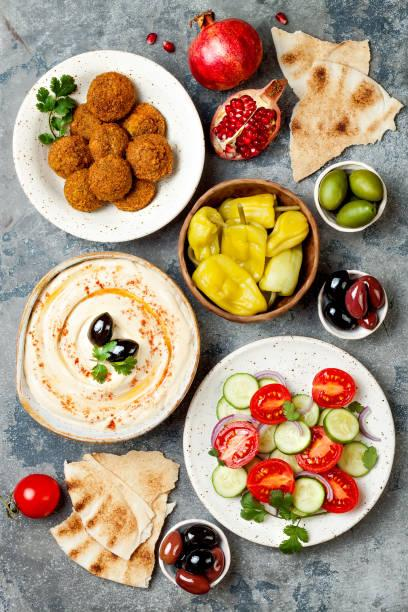Braised Crucian Carp: (181, 336, 393, 548), (12, 49, 205, 239), (15, 253, 200, 439), (177, 179, 317, 320)
